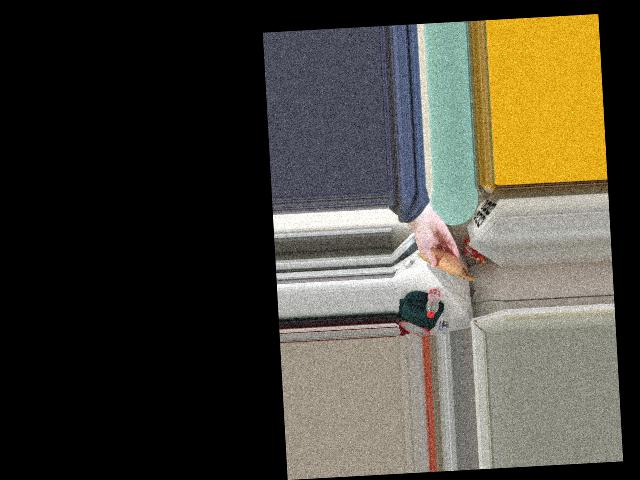sweet_potato: (426, 246, 460, 275)
